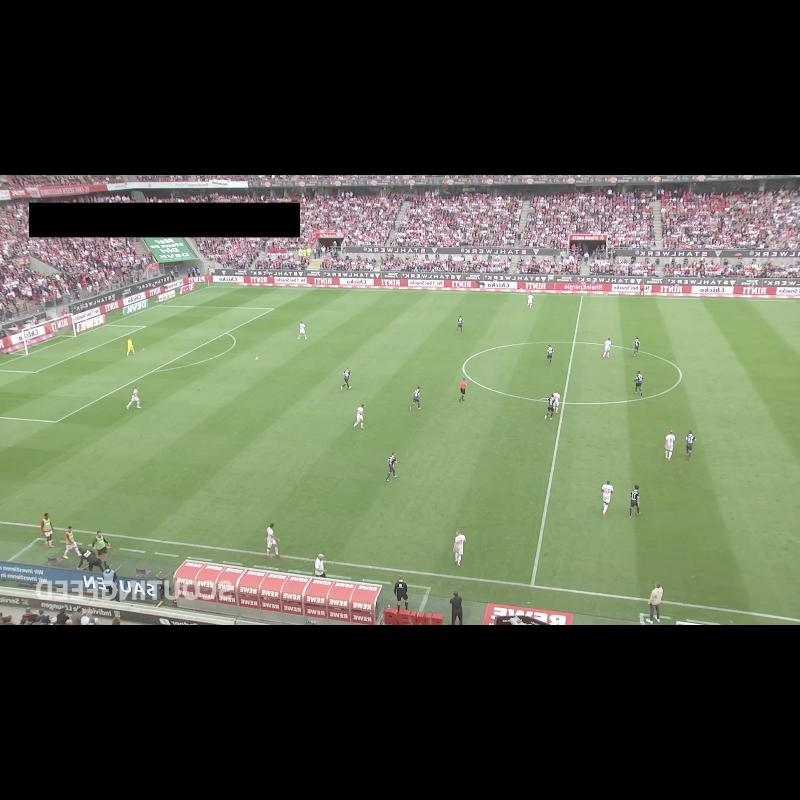cross_recipient_zone: (0, 305, 274, 422)
crossing_player_zone: (0, 417, 186, 528), (159, 287, 391, 312)
pitch: (0, 286, 800, 620)
